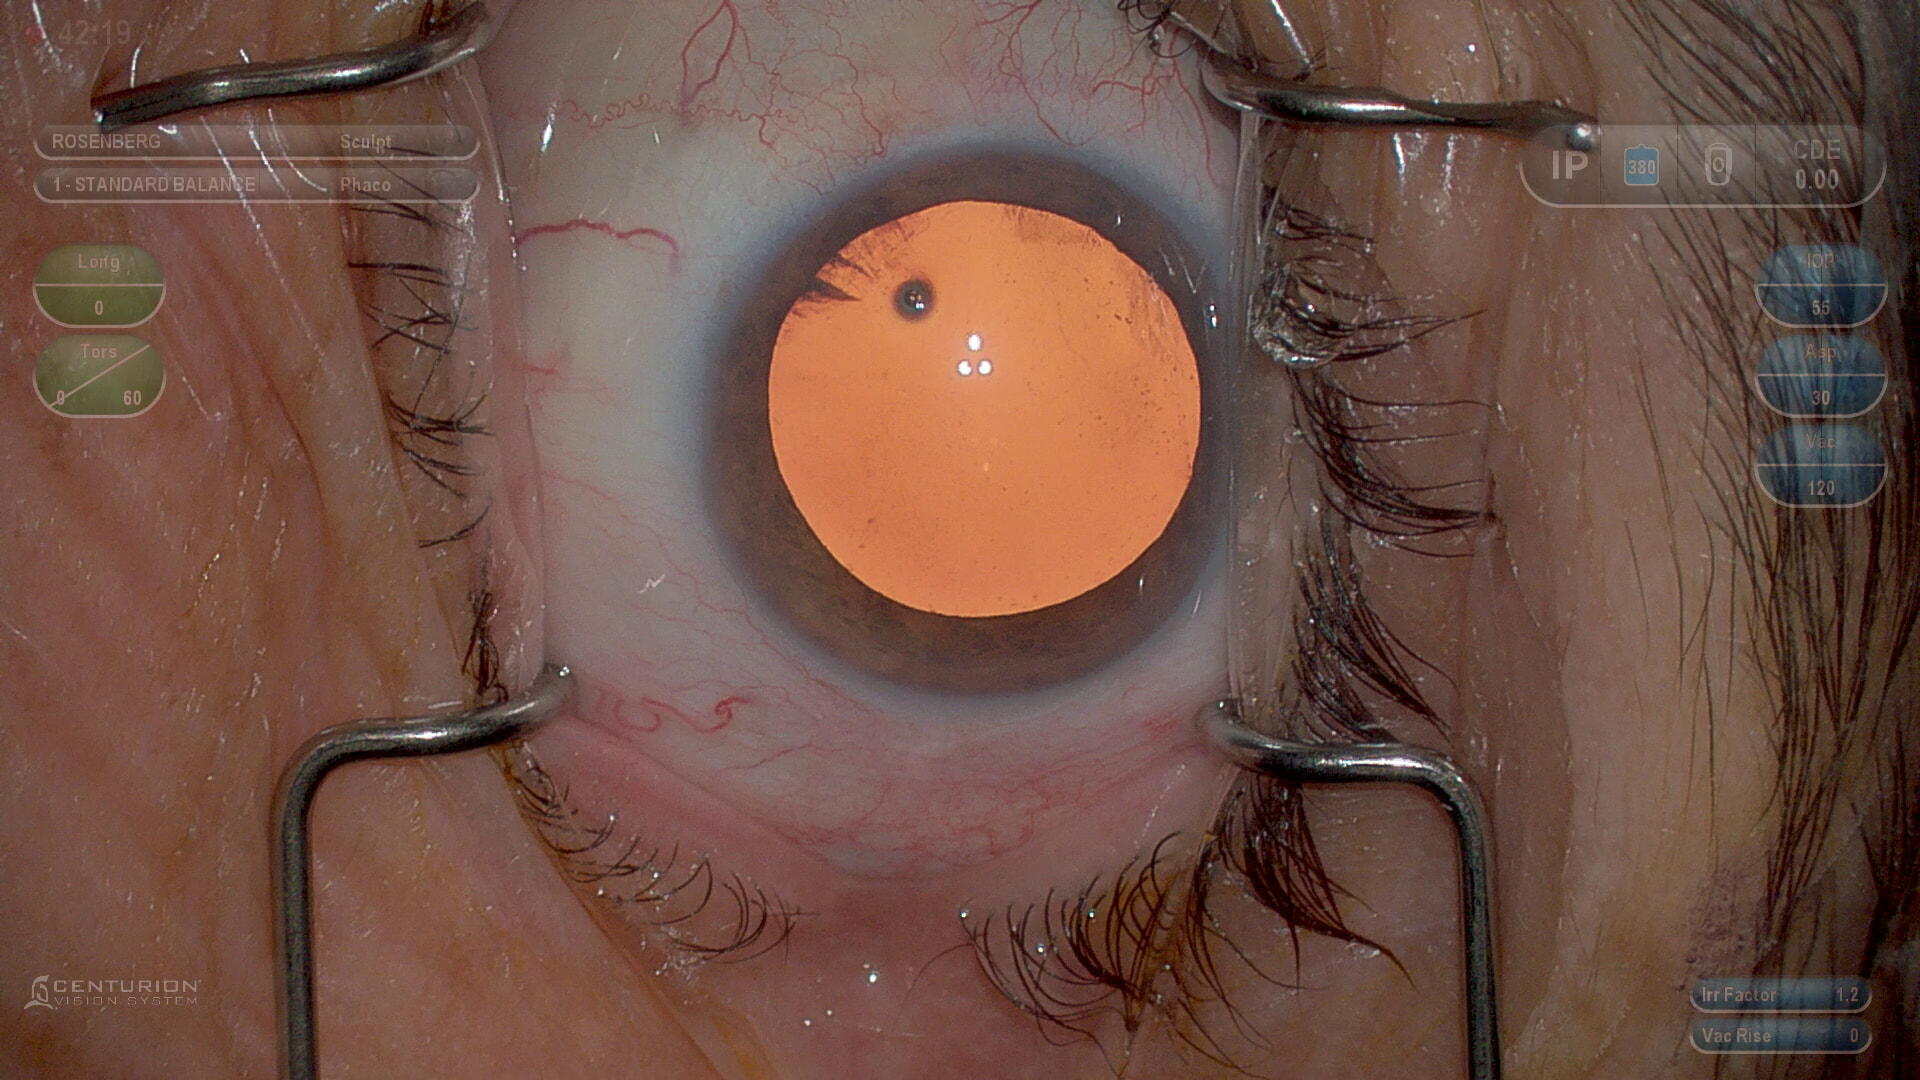iris: (718, 151, 1254, 689)
pupil: (769, 197, 1210, 624)
